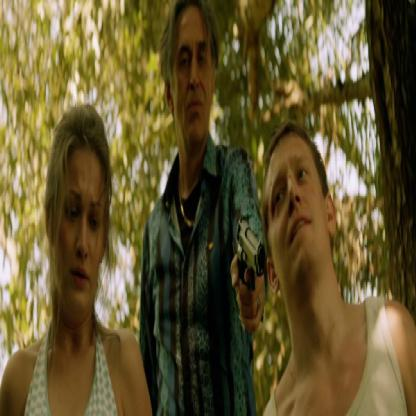Guns: (234, 209, 266, 300)
